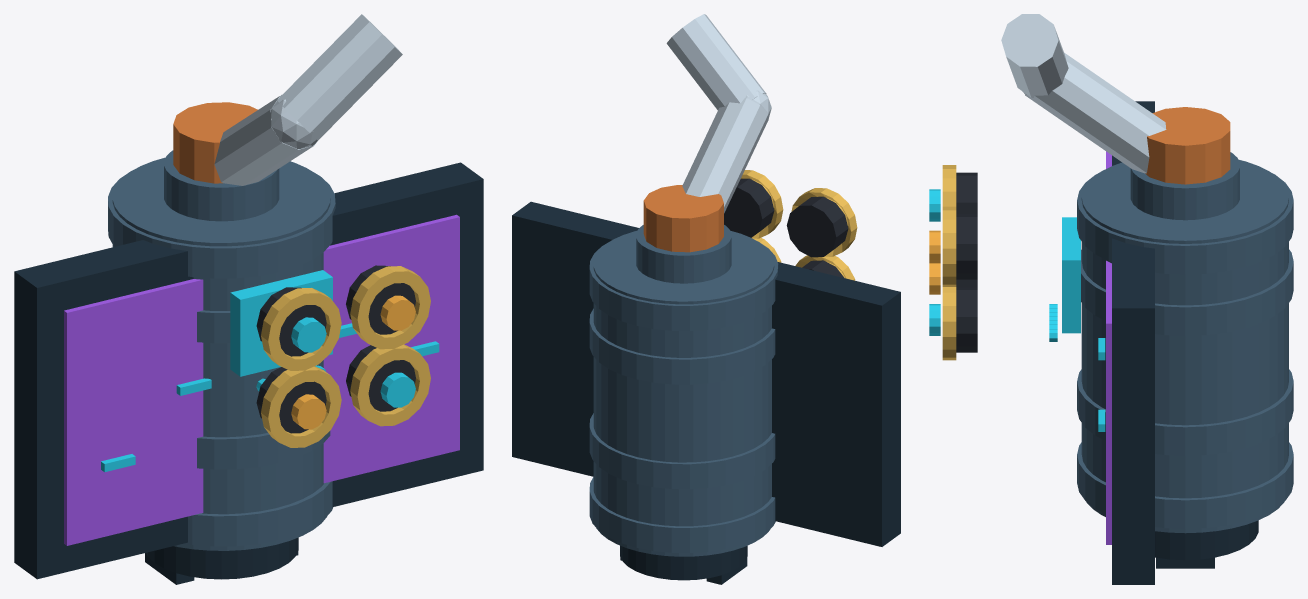
File: 54_L82_PrecisionClockEMIProbe.fbx
3 renders of one model, left to right at view 1: azimuth 30°, elevation 25°; view 2: azimuth 150°, elevation 25°; view 3: azimuth 270°, elevation 25°, orthographic. The views are drawn at different scales.
Parts seen in each view (by area): view 1: PrecisionClockEMIProbe, PrecisionClockEMIProbe_Part_0027, PrecisionClockEMIProbe_Part_0026; view 2: PrecisionClockEMIProbe, PrecisionClockEMIProbe_Part_0026; view 3: PrecisionClockEMIProbe, PrecisionClockEMIProbe_Part_0026, PrecisionClockEMIProbe_Part_0027.
Boxes of the visible parts, x1=… form: PrecisionClockEMIProbe: x1=108, y1=14, x2=430, y2=584; PrecisionClockEMIProbe_Part_0027: x1=64, y1=214, x2=459, y2=545; PrecisionClockEMIProbe_Part_0026: x1=14, y1=162, x2=483, y2=579; PrecisionClockEMIProbe: x1=589, y1=14, x2=857, y2=584; PrecisionClockEMIProbe_Part_0026: x1=512, y1=201, x2=900, y2=546; PrecisionClockEMIProbe: x1=929, y1=14, x2=1293, y2=568; PrecisionClockEMIProbe_Part_0026: x1=1112, y1=101, x2=1154, y2=584; PrecisionClockEMIProbe_Part_0027: x1=1106, y1=151, x2=1111, y2=544.
Bounding box in the file's own units: 85 × 106 × 63.28.
